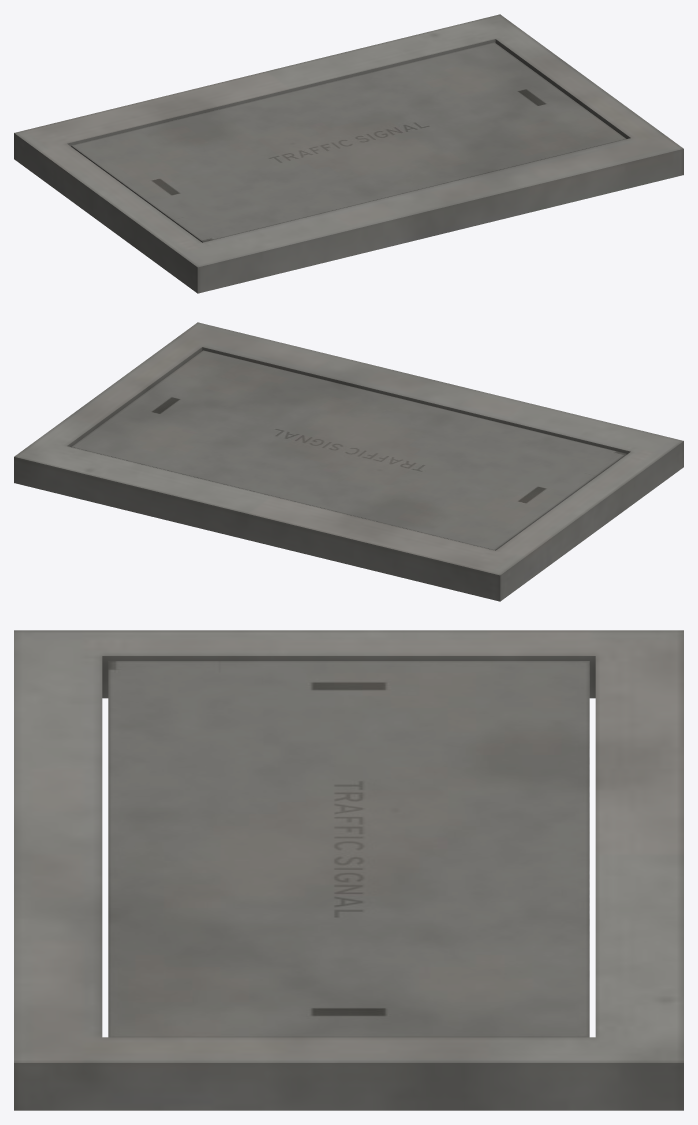
The model's file is pullBox-v1.glb.
3 views of the same model, one above another, from view 1: azimuth 30°, elevation 25°; view 2: azimuth 150°, elevation 25°; view 3: azimuth 270°, elevation 25° (orthographic). The views are drawn at different scales.
Visible parts, largest first — view 1: pullBox-v1; view 2: pullBox-v1; view 3: pullBox-v1.
Part boxes in pixels (<box>): pullBox-v1: <box>14,14,683,293</box>; pullBox-v1: <box>14,322,683,601</box>; pullBox-v1: <box>14,630,683,1110</box>.
Size of the model in its own units: 0.6985 by 0.036 by 0.4572.
1 material, 1 textured.
